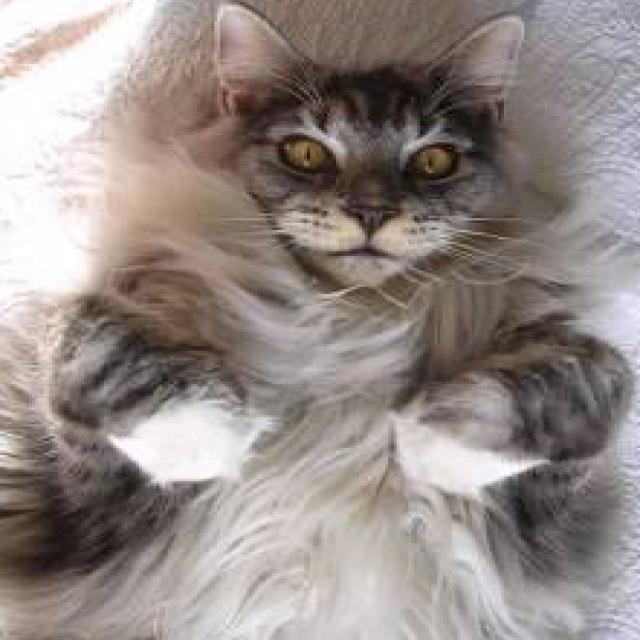Maine Coon: (3, 0, 634, 640)
